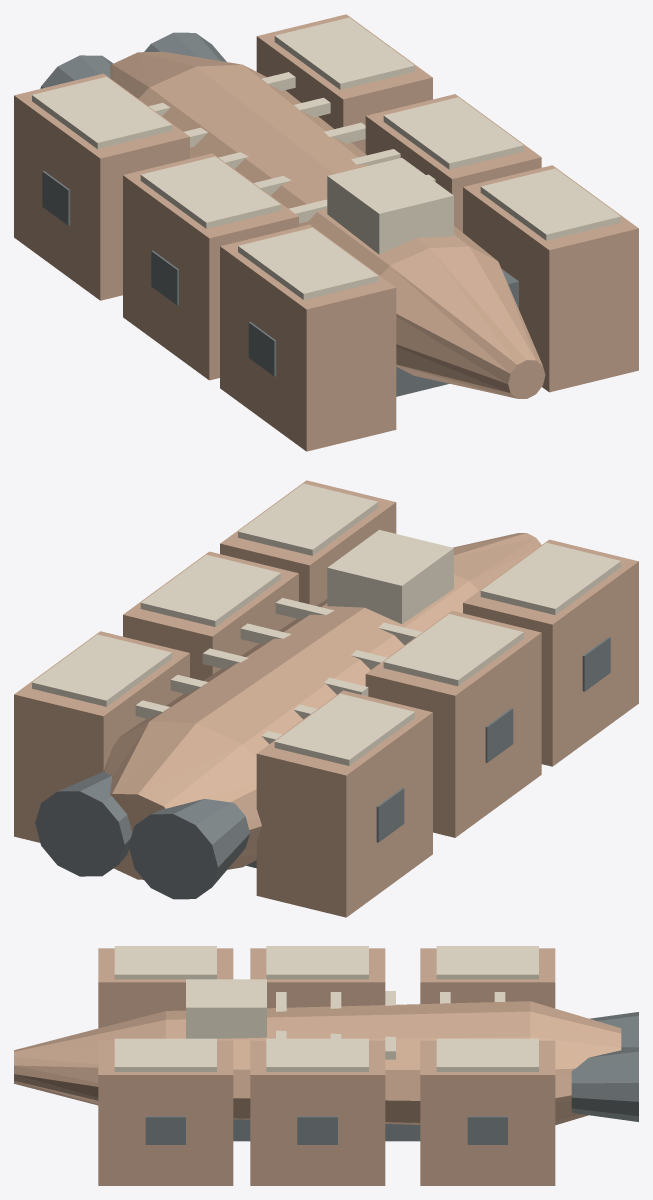
The picture shows the model from 3 angles, top to bottom: view 1: azimuth 30°, elevation 25°; view 2: azimuth 150°, elevation 25°; view 3: azimuth 270°, elevation 25°; orthographic projection. The views are drawn at different scales.
Size of the model in its own units: 4.36 by 2.05 by 8.98.
